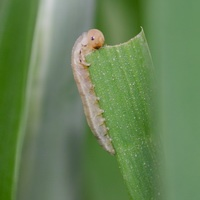insect: (71, 29, 114, 154)
